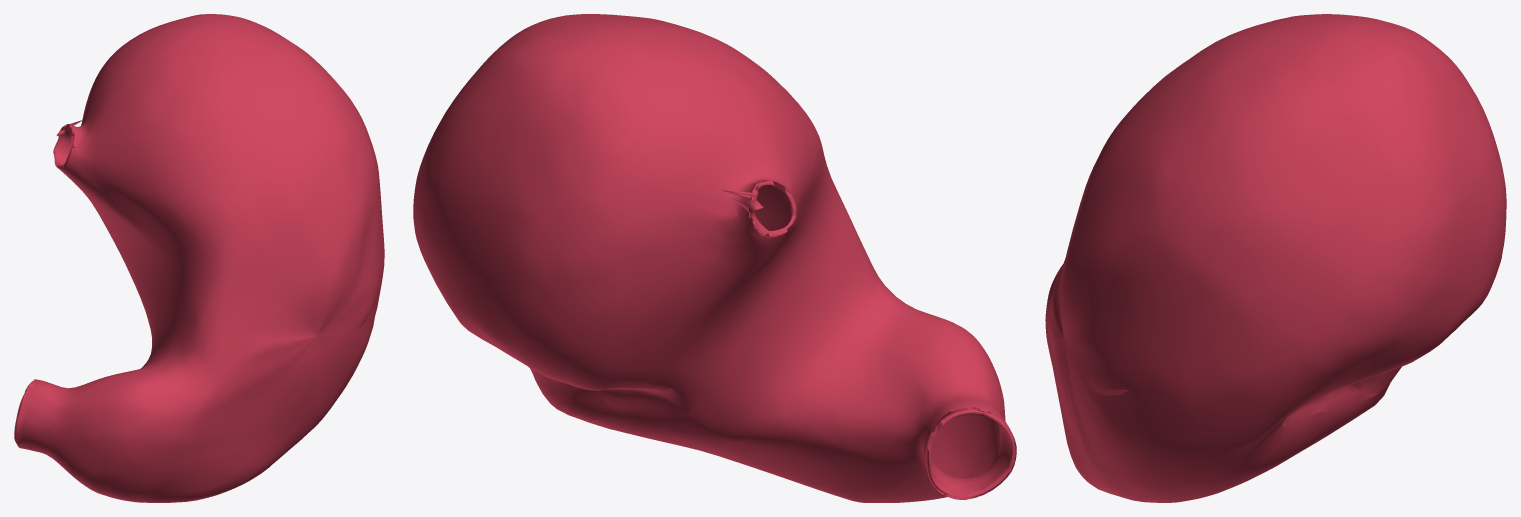
The model's file is Stomach_New.glb.
3 views of the same model, side by side, from view 1: azimuth 30°, elevation 25°; view 2: azimuth 150°, elevation 25°; view 3: azimuth 270°, elevation 25° (orthographic). The views are drawn at different scales.
Visible parts, largest first — view 1: Stomach; view 2: Stomach; view 3: Stomach.
Part boxes in pixels (x1=…): Stomach: x1=14, y1=14, x2=384, y2=502; Stomach: x1=413, y1=14, x2=1016, y2=502; Stomach: x1=1045, y1=14, x2=1506, y2=502.
Bounding box in the file's own units: 0.1452 × 0.1362 × 0.1144.
